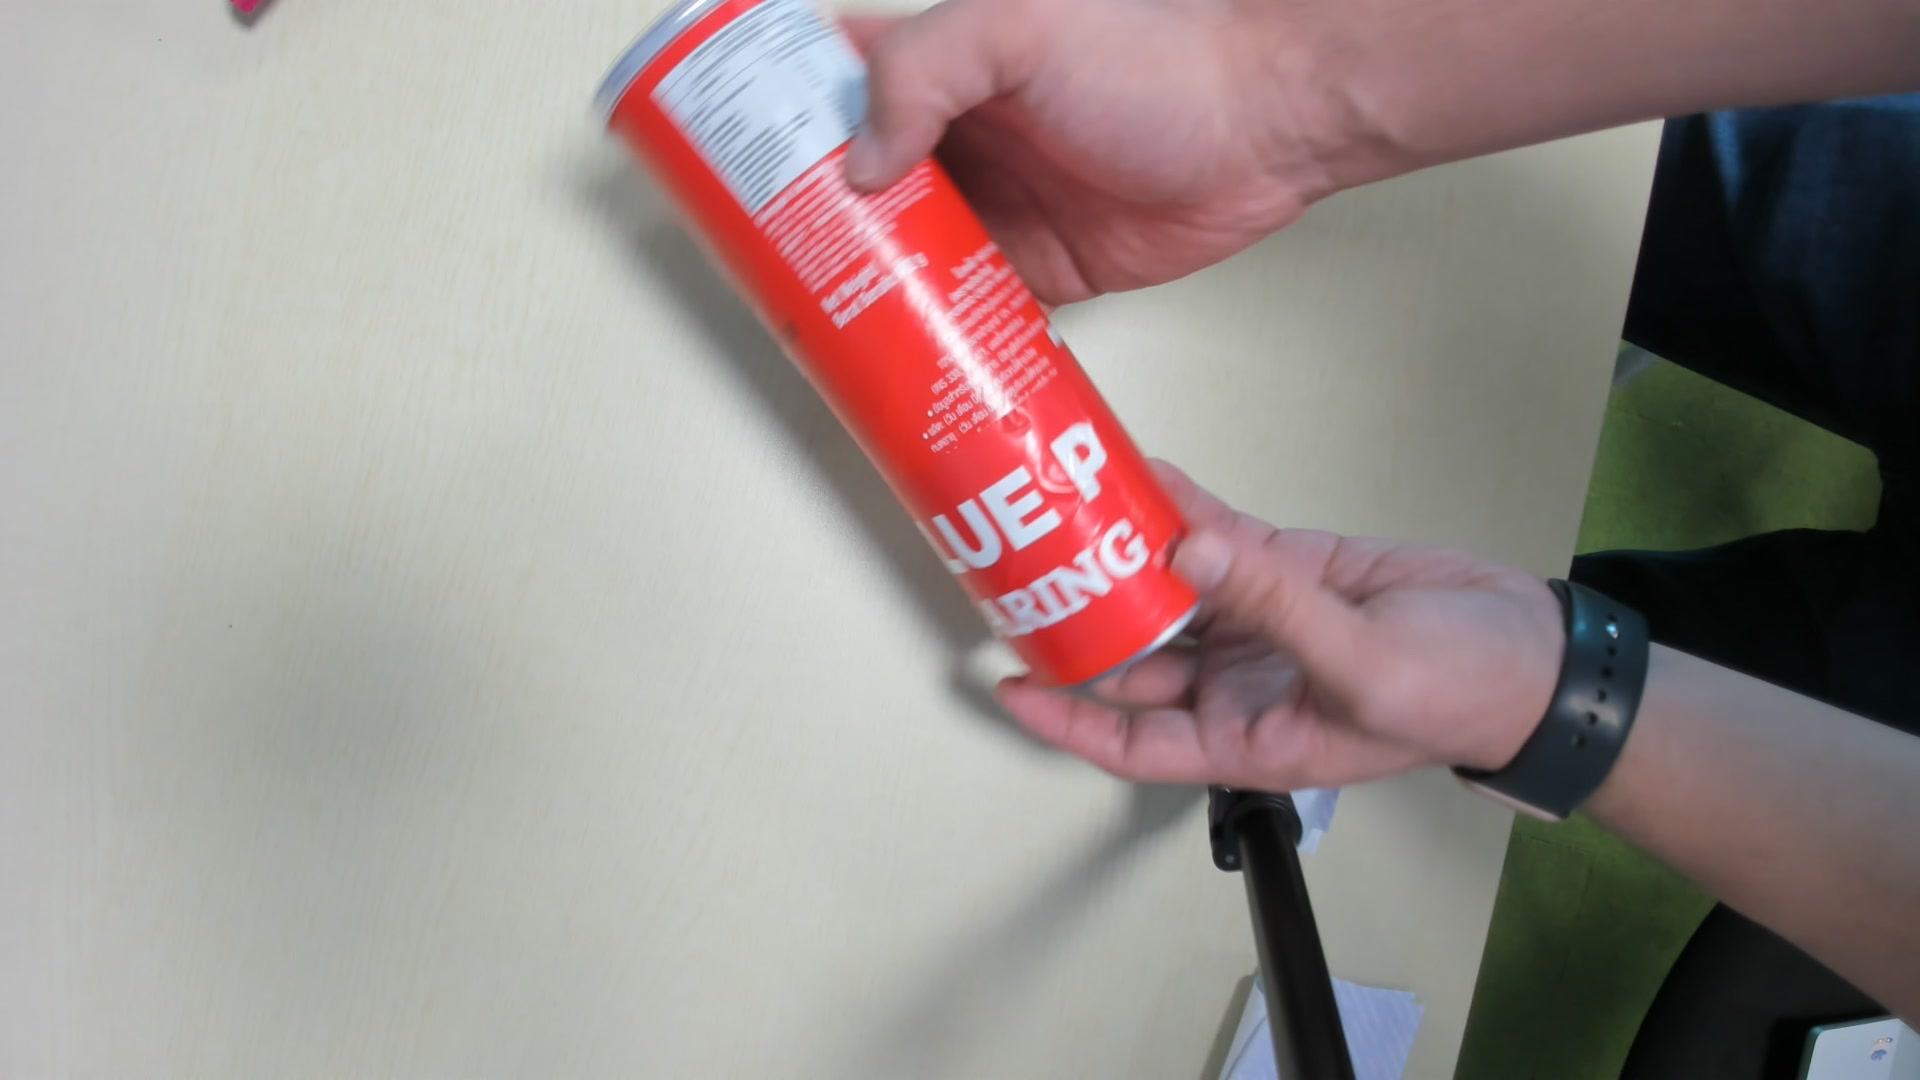PotatoChipsKeropok_100-199g_NonHalal_NonHealthy: (596, 3, 1203, 688)
